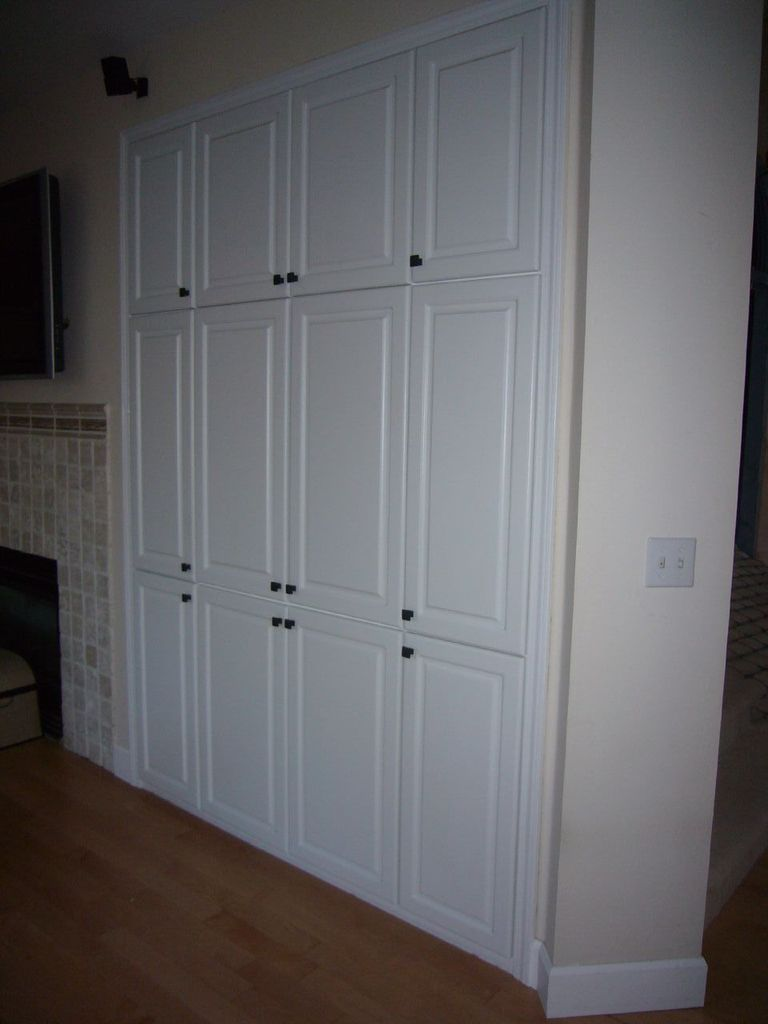cabinet door: (407, 296, 521, 637), (287, 314, 398, 610), (401, 650, 519, 914), (278, 613, 394, 865), (415, 53, 539, 266), (287, 100, 401, 297), (203, 311, 281, 594), (193, 582, 277, 809), (136, 324, 194, 579), (206, 119, 284, 296), (137, 580, 195, 774), (135, 145, 190, 300)
handle: (270, 255, 285, 294), (409, 242, 424, 277), (401, 641, 419, 670), (281, 570, 299, 599), (178, 546, 193, 580), (176, 276, 190, 307), (287, 260, 299, 296), (283, 612, 298, 640), (267, 612, 283, 637), (401, 603, 415, 631), (178, 583, 191, 612), (269, 579, 281, 603)
